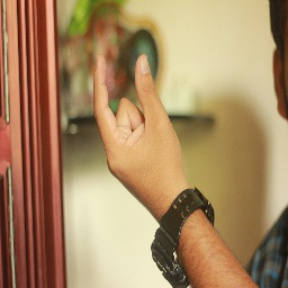U: (87, 51, 183, 186)
